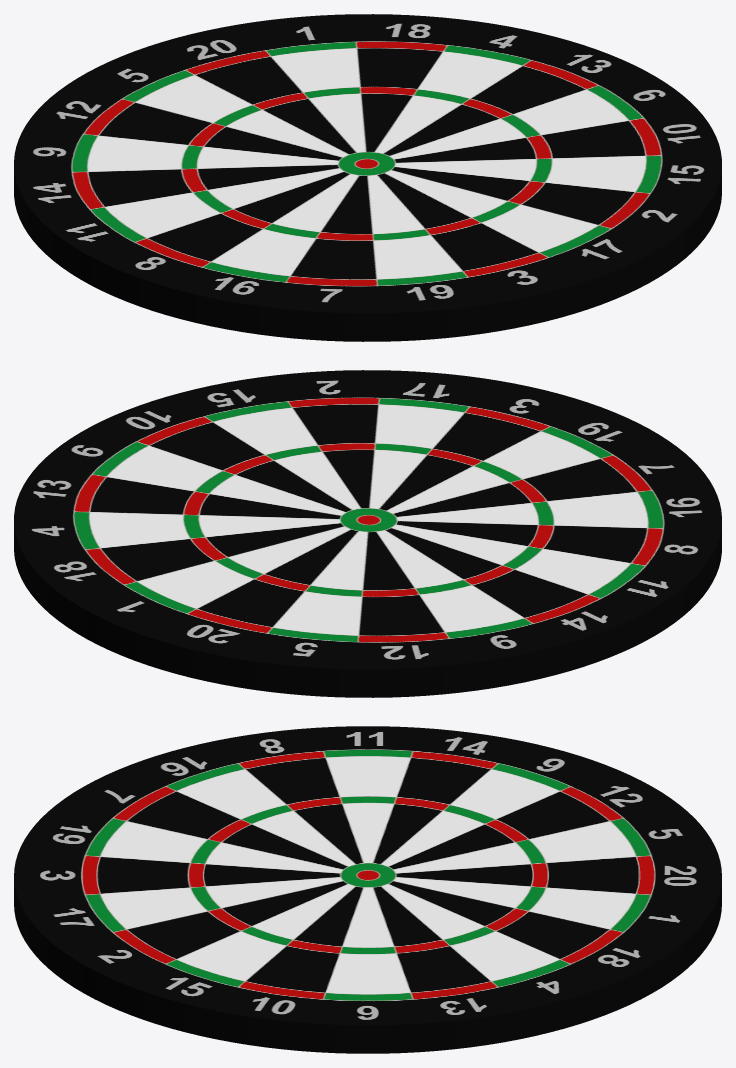
The model's file is board.glb.
The picture shows the model from 3 angles, top to bottom: view 1: azimuth 30°, elevation 25°; view 2: azimuth 150°, elevation 25°; view 3: azimuth 270°, elevation 25°; orthographic projection.
Parts seen in each view (by area): view 1: Circle; view 2: Circle; view 3: Circle.
Boxes of the visible parts, x1,y1,x2,y2 form: Circle: [14, 14, 721, 341]; Circle: [14, 370, 721, 697]; Circle: [14, 726, 721, 1053].
Bounding box in the file's own units: 0.451 × 0.02 × 0.451.
Materials: 1 (1 with a texture image).
